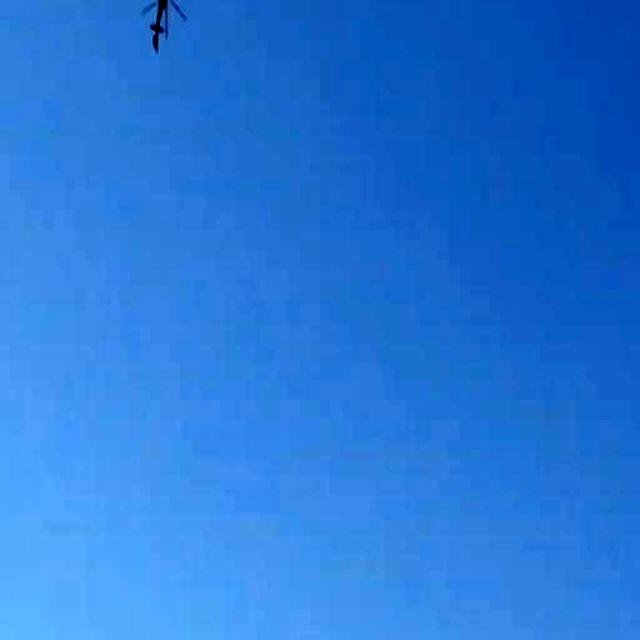drone: (138, 0, 189, 55)
